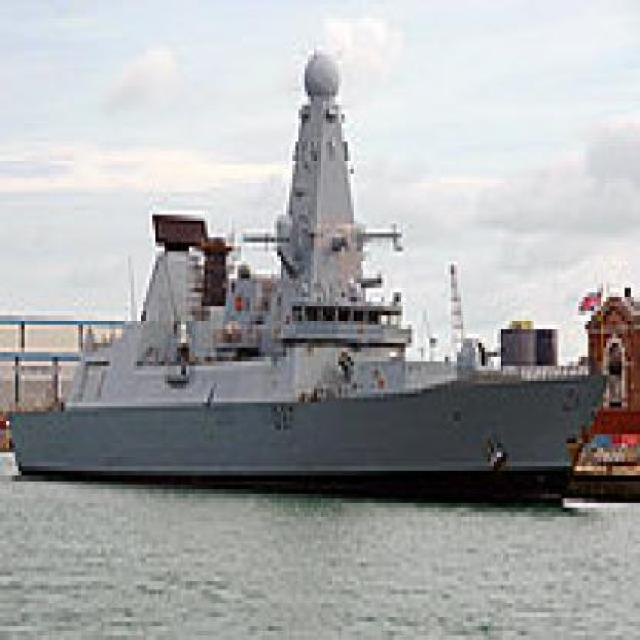warship2: (1, 1, 610, 509)
